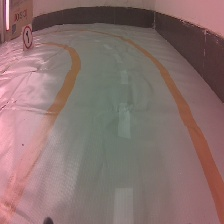limit: (21, 24, 35, 52)
